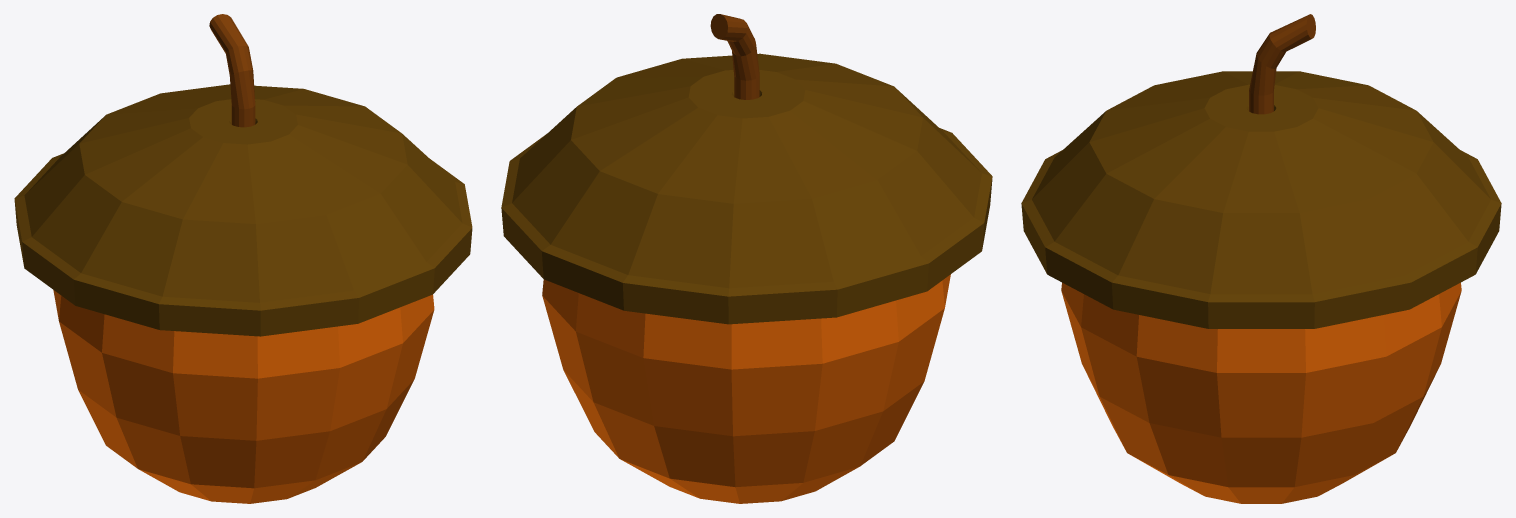
Rendered from jelod.fbx.
The picture shows the model from 3 angles, left to right: view 1: azimuth 30°, elevation 25°; view 2: azimuth 150°, elevation 25°; view 3: azimuth 270°, elevation 25°; orthographic projection. The views are drawn at different scales.
Parts seen in each view (by area): view 1: Sphere; view 2: Sphere; view 3: Sphere.
Part boxes in pixels (x1=…): Sphere: x1=14, y1=14, x2=472, y2=503; Sphere: x1=501, y1=14, x2=992, y2=503; Sphere: x1=1021, y1=14, x2=1501, y2=503.
Size of the model in its own units: 14.98 by 16.74 by 15.37.
